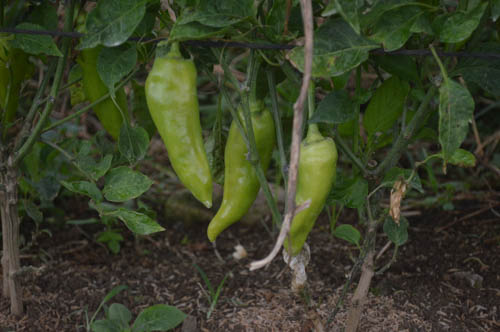ChiliPepper: (156, 54, 207, 207), (211, 109, 265, 237), (294, 136, 334, 260), (81, 53, 126, 136)
